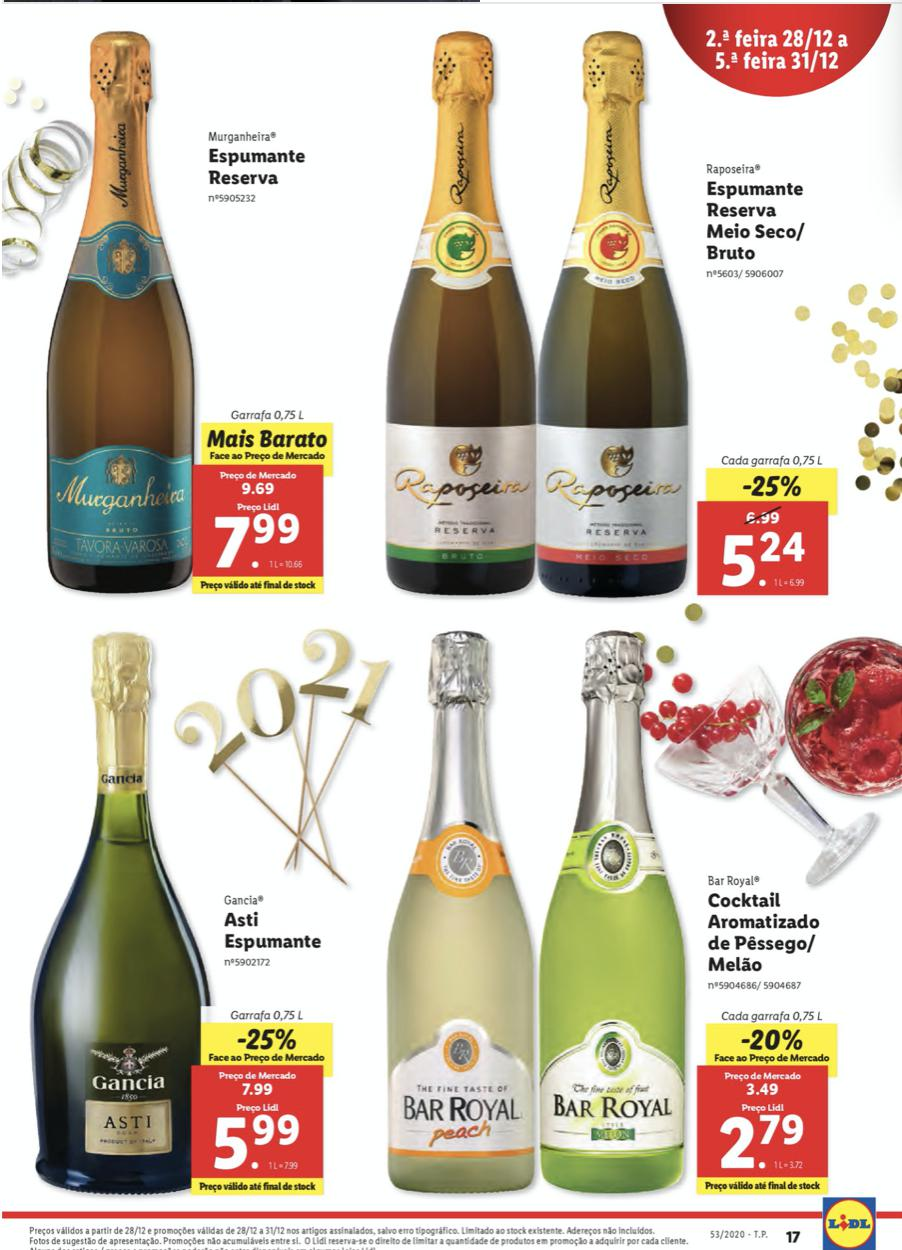name: (700, 889, 828, 973), (700, 175, 812, 264), (219, 912, 328, 955), (205, 147, 311, 189)
price: (712, 526, 820, 596), (203, 509, 312, 575), (719, 1106, 812, 1178), (211, 1113, 302, 1176)
product: (397, 27, 854, 604), (380, 626, 837, 1193), (37, 30, 351, 600), (28, 630, 331, 1200)
promotion: (731, 1026, 808, 1055), (740, 469, 806, 500), (234, 1023, 302, 1053)
